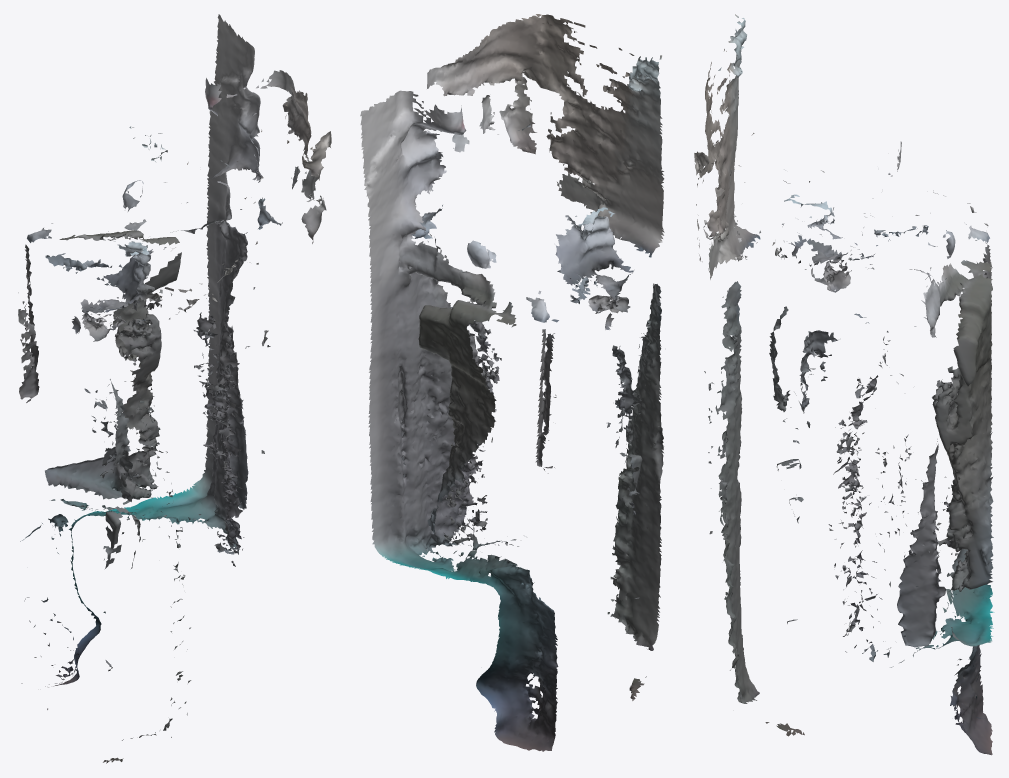
Rendered from apartment-full-60-f4930b5f9acc.glb.
3 views of the same model, side by side, from view 1: azimuth 30°, elevation 25°; view 2: azimuth 150°, elevation 25°; view 3: azimuth 270°, elevation 25° (orthographic). The views are drawn at different scales.
Bounding box in the file's own units: 0.584 × 1.79 × 0.663.
